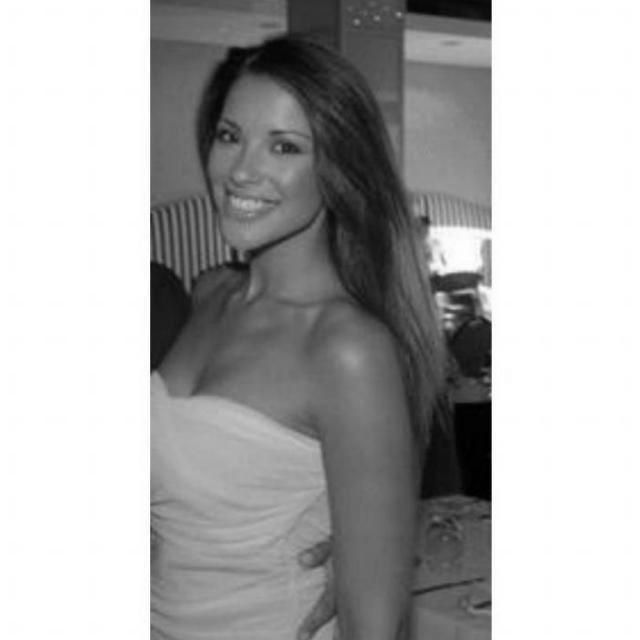real: (194, 32, 367, 264)
